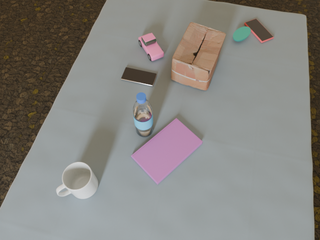book: (131, 118, 203, 184)
bottle: (133, 93, 153, 137)
box: (171, 22, 226, 90)
cup: (56, 162, 98, 199)
mouse: (233, 26, 251, 41)
phone: (244, 19, 274, 43), (121, 67, 157, 86)
toy_car: (139, 33, 164, 61)
